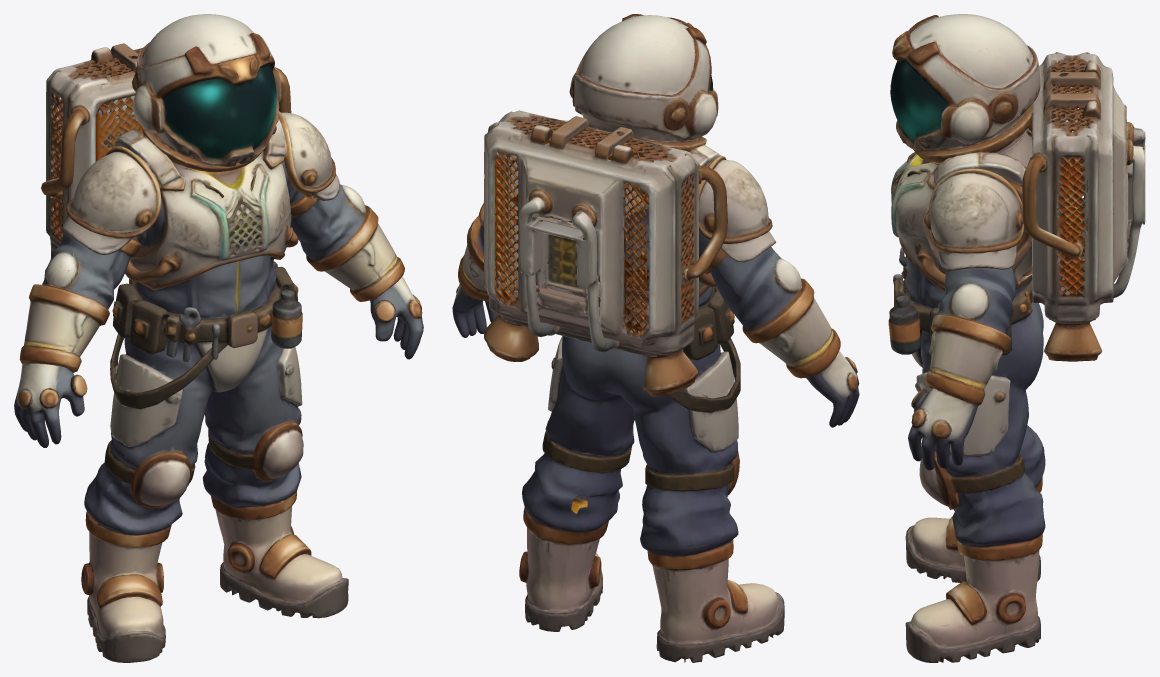
File: custodian.glb
3 views of the same model, side by side, from view 1: azimuth 30°, elevation 25°; view 2: azimuth 150°, elevation 25°; view 3: azimuth 270°, elevation 25° (orthographic).
Visible parts, largest first — view 1: world; view 2: world; view 3: world.
Part boxes in pixels (bbox=[...]): world: bbox=[14, 14, 423, 662]; world: bbox=[452, 14, 859, 662]; world: bbox=[888, 14, 1145, 662].
Bounding box in the file's own units: 0.6993 × 1 × 0.3972.
Materials: 1 (1 with a texture image).
